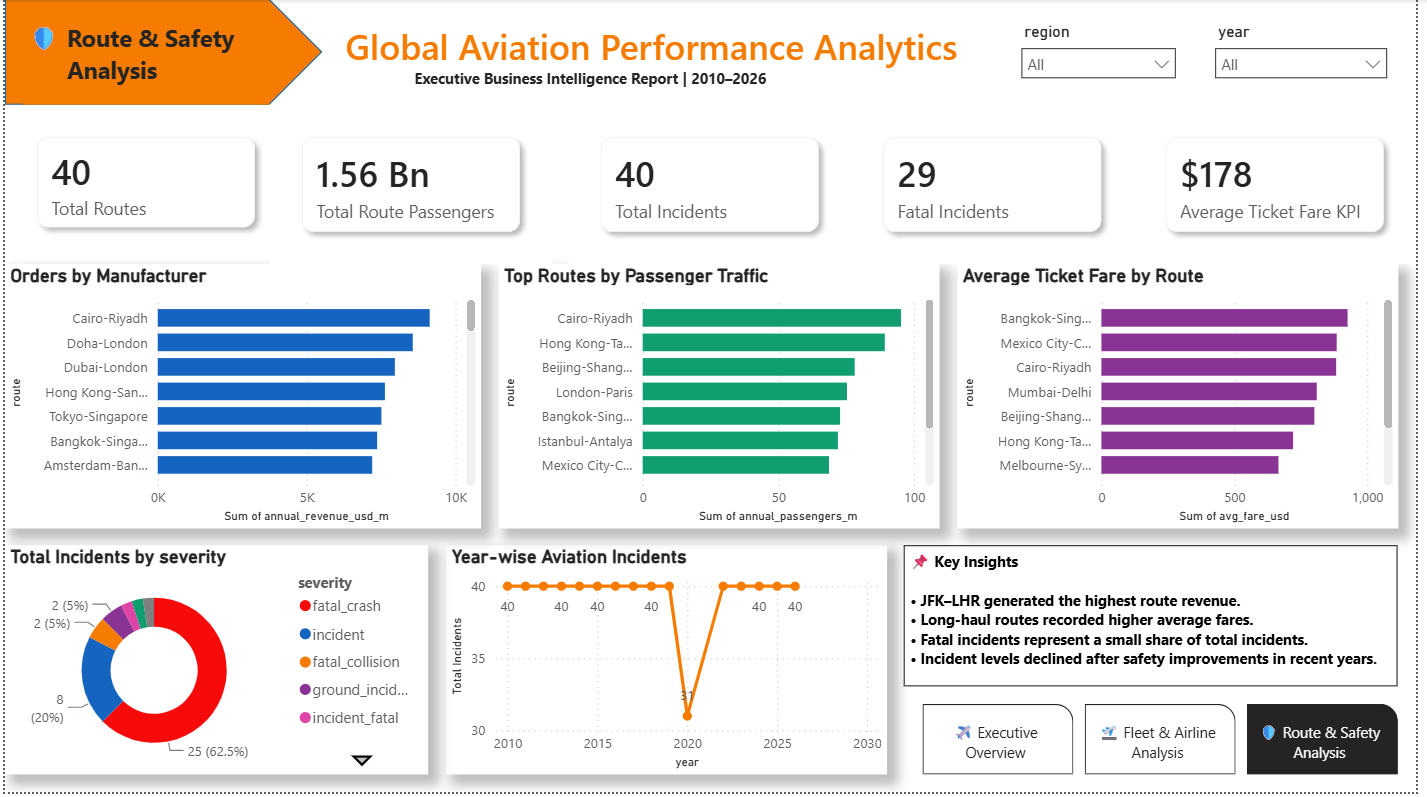

The page's visual inventory and layout, read from the dashboard file:
{"tool":"powerbi","page":{"name":"🛡️ Route & Safety Analysis","canvas":[1280,720],"ordinal":2},"visuals":[{"type":"textbox","box":[304,16,608,96],"z":0},{"type":"slicer","fields":{"Values":["aviation_project airline_financials.region"]},"box":[912,16,160,80],"z":1000},{"type":"slicer","fields":{"Values":["aviation_project airline_financials.year"]},"box":[1088,16,176,80],"z":2000},{"type":"lineChart","title":"Year-wise Aviation Incidents","fields":{"Category":["aviation_project airline_financials.year"],"Y":["aviation_project airline_financials.Total Incidents"]},"box":[400,496,400,208],"z":8000},{"type":"clusteredBarChart","title":"Orders by Manufacturer","fields":{"Category":["aviation_project route_performance.route"],"Y":["Sum(aviation_project route_performance.annual_revenue_usd_m)"]},"box":[0,240,432,240],"z":9000},{"type":"pageNavigator","box":[832,640,432,64],"z":10000},{"type":"textbox","box":[816,496,448,128],"z":11000},{"type":"clusteredBarChart","title":"Top Routes by Passenger Traffic","fields":{"Category":["aviation_project route_performance.route"],"Y":["Sum(aviation_project route_performance.annual_passengers_m)"]},"box":[448,240,400,240],"z":12000},{"type":"clusteredBarChart","title":"Average Ticket Fare by Route","fields":{"Category":["aviation_project route_performance.route"],"Y":["Sum(aviation_project route_performance.avg_fare_usd)"]},"box":[864,240,400,240],"z":13000},{"type":"donutChart","fields":{"Category":["aviation_project aviation_incidents.severity"],"Y":["aviation_project airline_financials.Total Incidents"]},"box":[0,496,384,208],"z":14000},{"type":"shape","box":[0,0,288,96],"z":15000},{"type":"textbox","box":[16,16,224,80],"z":16000},{"type":"cardVisual","fields":{"Data":["aviation_project airline_financials.Total Routes"]},"box":[0,96,256,140],"z":16004},{"type":"cardVisual","fields":{"Data":["aviation_project airline_financials.Fatal Incidents"]},"box":[768,96,256,144],"z":16005},{"type":"cardVisual","fields":{"Data":["aviation_project airline_financials.Total Route Passengers"]},"box":[240,96,256,144],"z":16006},{"type":"cardVisual","fields":{"Data":["aviation_project airline_financials.Total Incidents"]},"box":[512,96,256,144],"z":16007},{"type":"cardVisual","fields":{"Data":["aviation_project airline_financials.Average Ticket Fare KPI"]},"box":[1024,96,256,144],"z":16008}]}

Visuals, with their boxes in screenshot pixels (x1, y1, x2, y2), scaled from the page's 1280x720 canvas onto the 1427x797 screenshot:
textbox: detection(339, 18, 1017, 124)
slicer - aviation_project airline_financials.region: detection(1017, 18, 1195, 106)
slicer - aviation_project airline_financials.year: detection(1213, 18, 1409, 106)
"Year-wise Aviation Incidents" lineChart: detection(446, 549, 892, 779)
"Orders by Manufacturer" clusteredBarChart: detection(0, 266, 482, 531)
pageNavigator: detection(928, 708, 1409, 779)
textbox: detection(910, 549, 1409, 691)
"Top Routes by Passenger Traffic" clusteredBarChart: detection(499, 266, 945, 531)
"Average Ticket Fare by Route" clusteredBarChart: detection(963, 266, 1409, 531)
donutChart - aviation_project aviation_incidents.severity x aviation_project airline_financials.Total Incidents: detection(0, 549, 428, 779)
shape: detection(0, 0, 321, 106)
textbox: detection(18, 18, 268, 106)
cardVisual - aviation_project airline_financials.Total Routes: detection(0, 106, 285, 261)
cardVisual - aviation_project airline_financials.Fatal Incidents: detection(856, 106, 1142, 266)
cardVisual - aviation_project airline_financials.Total Route Passengers: detection(268, 106, 553, 266)
cardVisual - aviation_project airline_financials.Total Incidents: detection(571, 106, 856, 266)
cardVisual - aviation_project airline_financials.Average Ticket Fare KPI: detection(1142, 106, 1426, 266)
